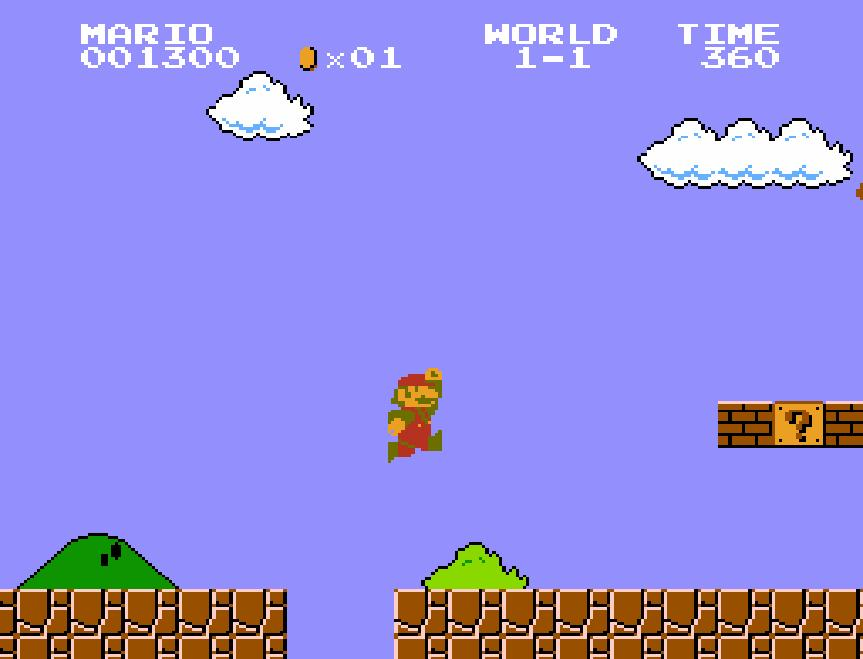big_mario: (386, 366, 444, 464)
